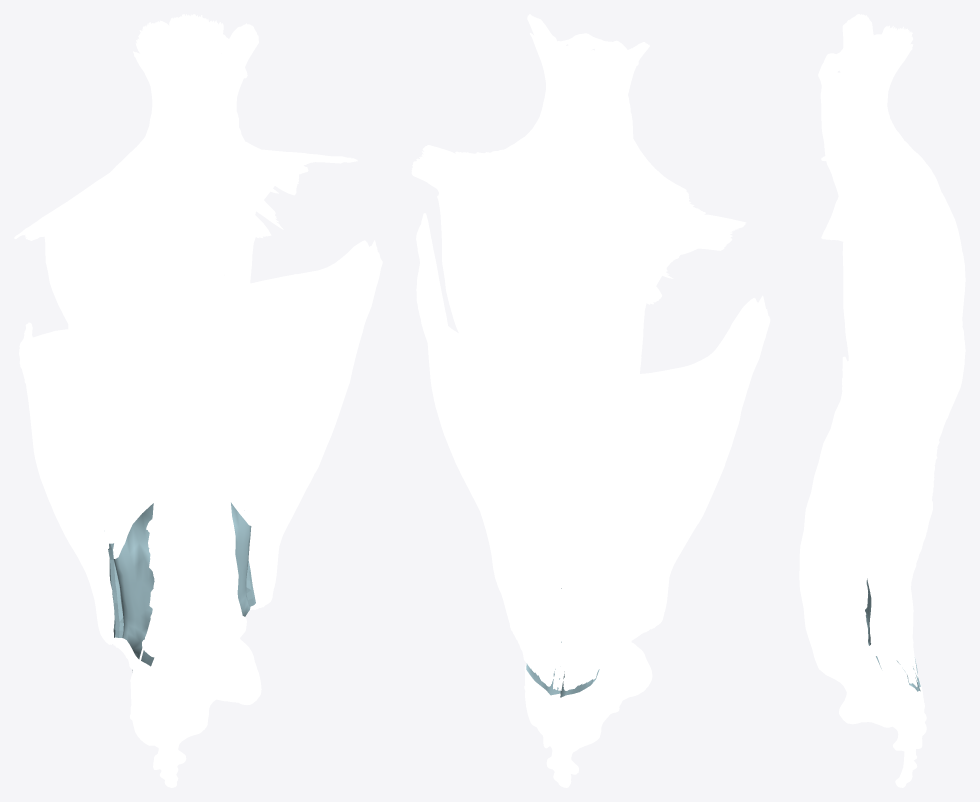
Rendered from back.glb.
3 views of the same model, side by side, from view 1: azimuth 30°, elevation 25°; view 2: azimuth 150°, elevation 25°; view 3: azimuth 270°, elevation 25° (orthographic). The views are drawn at different scales.
Parts seen in each view (by area): view 1: Latissimus dorsi muscle.l, Anterior longitudinal ligament, Latissimus dorsi muscle.r, Longissimus thoracis muscle.r, Sacrum, Iliocostalis thoracis muscle.l, Ascending part of trapezius muscle.r, Iliocostalis thoracis muscle.r, Iliocostalis lumborum muscle.r, Iliocostalis lumborum muscle.l, Anterior layer of thoracolumbar fascia.r, Longissimus thoracis muscle.l (+38 smaller); view 2: Latissimus dorsi muscle.r, Latissimus dorsi muscle.l, Descending part of trapezius muscle.l, Descending part of trapezius muscle.r, Ascending part of trapezius muscle.r, Transverse part of trapezius muscle.r, Transverse part of trapezius muscle.l, Ascending part of trapezius muscle.l, Sacrum, Iliocostalis lumborum muscle.r, Splenius capitis muscle.r, Iliocostalis thoracis muscle.r (+2 smaller); view 3: Latissimus dorsi muscle.l, Ascending part of trapezius muscle.l, Anterior longitudinal ligament, Transverse part of trapezius muscle.l, Sacrum, Descending part of trapezius muscle.l, Latissimus dorsi muscle.r, Splenius capitis muscle.l, Vertebra L3, Vertebra T8, Descending part of trapezius muscle.r, Levator scapulae.l (+28 smaller).
Part boxes in pixels (<box>): Latissimus dorsi muscle.l: <box>244,240,382,610</box>; Anterior longitudinal ligament: <box>172,86,239,703</box>; Latissimus dorsi muscle.r: <box>19,322,156,669</box>; Longissimus thoracis muscle.r: <box>90,176,165,666</box>; Sacrum: <box>130,639,261,750</box>; Iliocostalis thoracis muscle.l: <box>217,165,256,456</box>; Ascending part of trapezius muscle.r: <box>59,20,185,235</box>; Iliocostalis thoracis muscle.r: <box>68,191,152,499</box>; Iliocostalis lumborum muscle.r: <box>64,347,154,730</box>; Iliocostalis lumborum muscle.l: <box>181,301,272,723</box>; Anterior layer of thoracolumbar fascia.r: <box>113,503,154,666</box>; Longissimus thoracis muscle.l: <box>200,160,242,414</box>; Latissimus dorsi muscle.r: <box>558,295,770,690</box>; Latissimus dorsi muscle.l: <box>416,213,561,689</box>; Descending part of trapezius muscle.l: <box>437,189,559,500</box>; Descending part of trapezius muscle.r: <box>544,247,697,500</box>; Ascending part of trapezius muscle.r: <box>559,48,705,214</box>; Transverse part of trapezius muscle.r: <box>544,171,746,260</box>; Transverse part of trapezius muscle.l: <box>411,145,558,260</box>; Ascending part of trapezius muscle.l: <box>455,37,574,171</box>; Sacrum: <box>524,642,652,757</box>; Iliocostalis lumborum muscle.r: <box>564,660,606,742</box>; Splenius capitis muscle.r: <box>608,42,649,111</box>; Iliocostalis thoracis muscle.r: <box>611,303,646,375</box>; Latissimus dorsi muscle.l: <box>842,355,954,686</box>; Ascending part of trapezius muscle.l: <box>821,44,917,253</box>; Anterior longitudinal ligament: <box>799,75,871,681</box>; Transverse part of trapezius muscle.l: <box>857,165,945,288</box>; Sacrum: <box>830,646,926,755</box>; Descending part of trapezius muscle.l: <box>905,239,965,434</box>; Latissimus dorsi muscle.r: <box>842,241,935,681</box>; Splenius capitis muscle.l: <box>842,69,876,140</box>; Vertebra L3: <box>807,559,866,591</box>; Vertebra T8: <box>861,329,918,376</box>; Descending part of trapezius muscle.r: <box>942,193,965,317</box>; Levator scapulae.l: <box>832,96,860,172</box>.
Bounding box in the file's own units: 0.3693 × 0.7444 × 0.1502.
